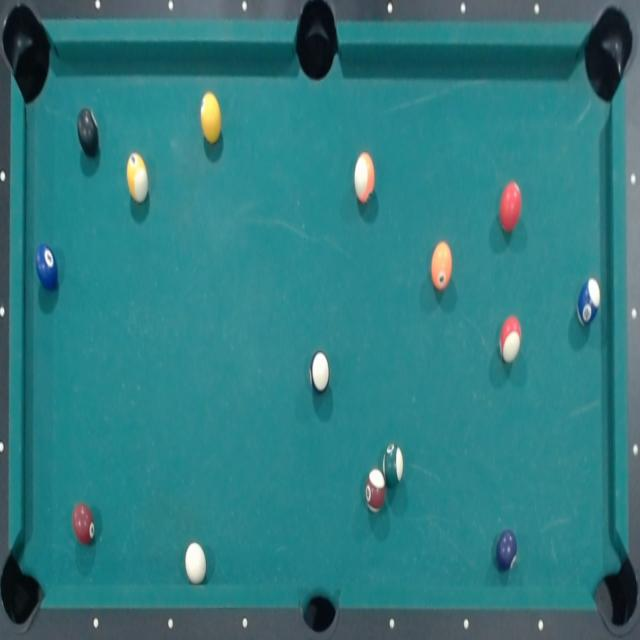black_8ball: (76, 107, 102, 159)
blue_solid: (34, 242, 61, 292)
blue_stripe: (576, 276, 601, 328)
cue_ball: (185, 542, 207, 586)
green_stripe: (383, 443, 405, 488)
maroon_solid: (73, 503, 97, 544)
maroon_stripe: (364, 468, 388, 514)
orange_solid: (429, 242, 455, 290)
orange_stripe: (353, 149, 377, 206)
playr: (497, 530, 517, 570)
purple_solid: (308, 349, 332, 396)
purple_stripe: (499, 179, 523, 233)
red_solid: (499, 314, 522, 362)
red_stripe: (200, 90, 224, 146)
yellow_solid: (126, 150, 150, 203)
